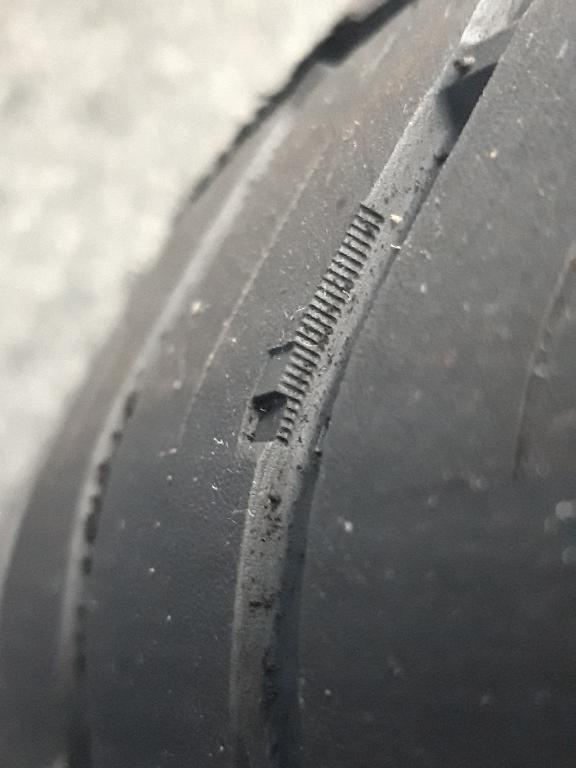temoin:25: (225, 323, 332, 462)
